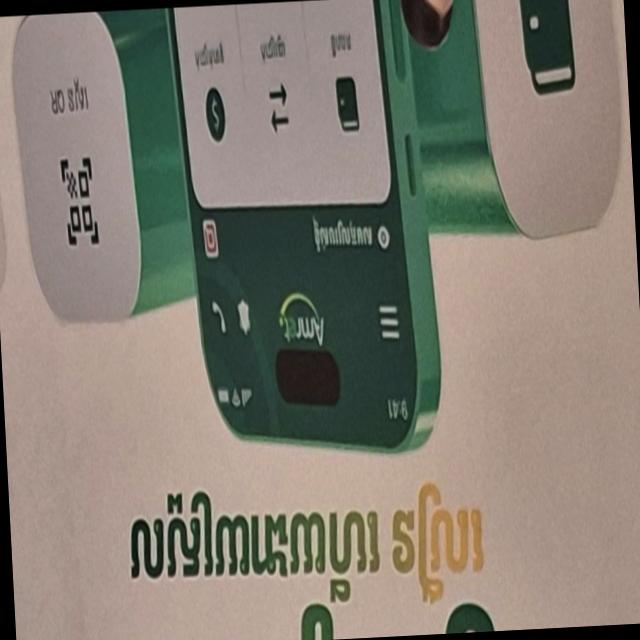Yolov11_80vkh: (298, 194, 386, 269), (63, 57, 110, 130)
